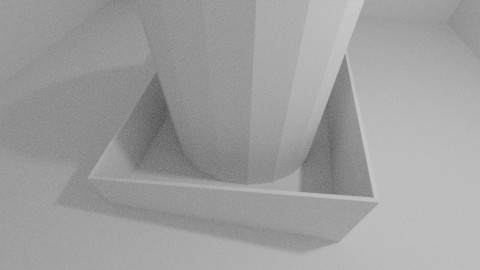cheminee: (135, 1, 365, 185)
eaf: (93, 176, 374, 238)
